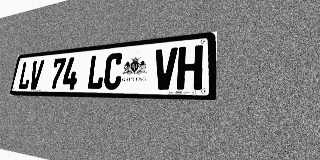4: (61, 56, 80, 90)
7: (48, 58, 66, 90)
C: (102, 52, 124, 90)
H: (176, 45, 203, 90)
L: (86, 54, 106, 90), (17, 61, 33, 90)
V: (153, 47, 178, 90), (28, 60, 45, 90)
